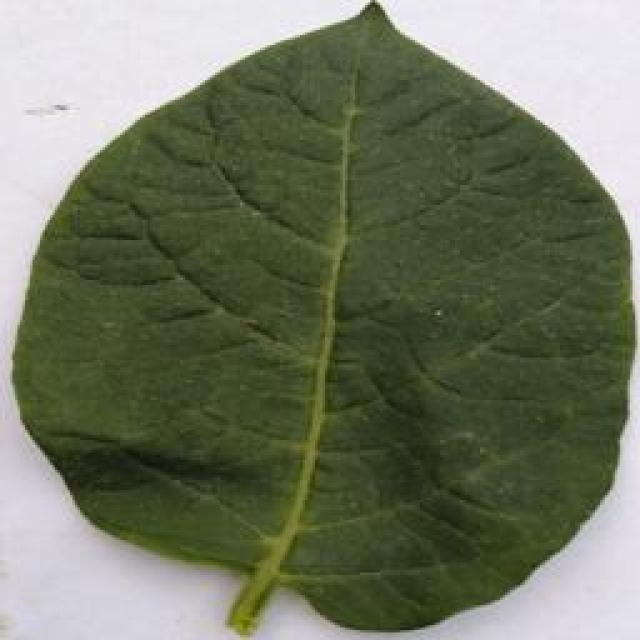Potato_Healthy: (12, 3, 624, 630)
